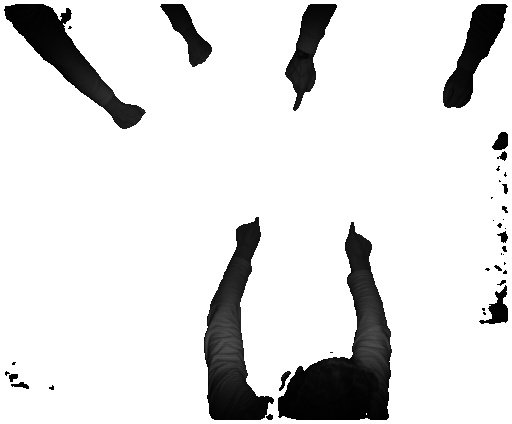fist: (440, 73, 475, 111), (114, 102, 151, 135), (187, 36, 215, 71)
hand: (280, 61, 319, 111), (344, 216, 375, 265), (236, 216, 263, 256)
